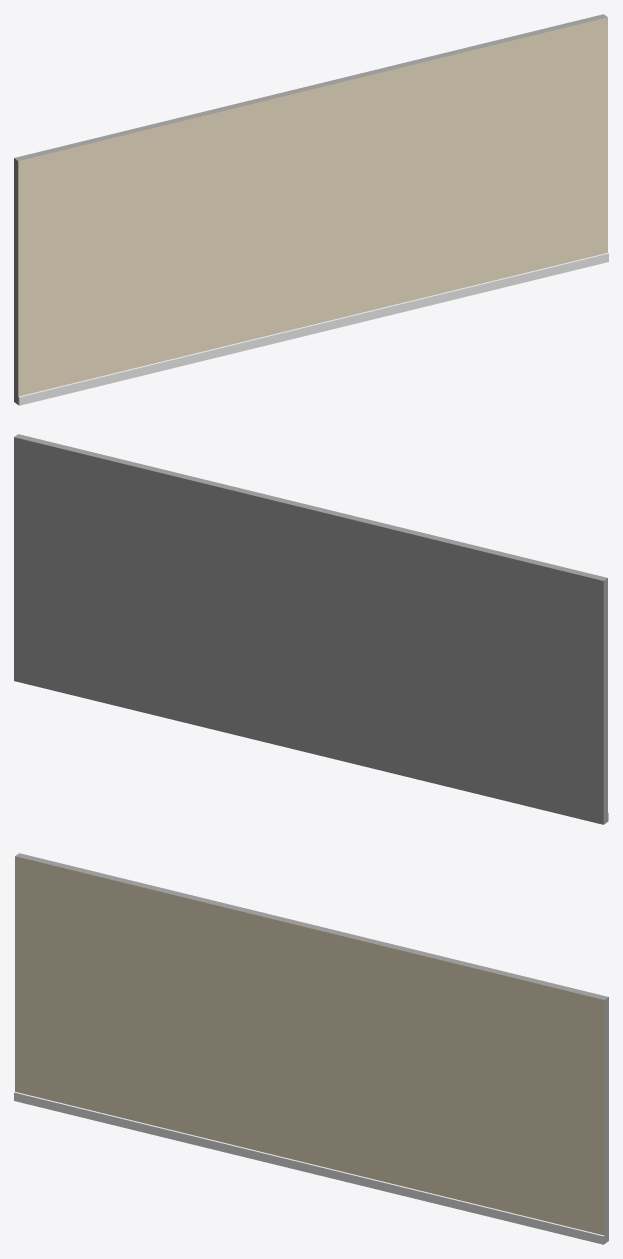
The model's file is Wall 2.FBX.
3 views of the same model, one above another, from view 1: azimuth 30°, elevation 25°; view 2: azimuth 150°, elevation 25°; view 3: azimuth 330°, elevation 25° (orthographic).
Parts seen in each view (by area): view 1: Wall 2; view 2: Wall 2; view 3: Wall 2.
Part boxes in pixels (x1,y1,x2,y2): Wall 2: (14, 14, 608, 405); Wall 2: (14, 434, 608, 824); Wall 2: (14, 853, 608, 1244).
Size of the model in its own units: 765 by 303 by 11.98.
3 materials, 1 textured.
